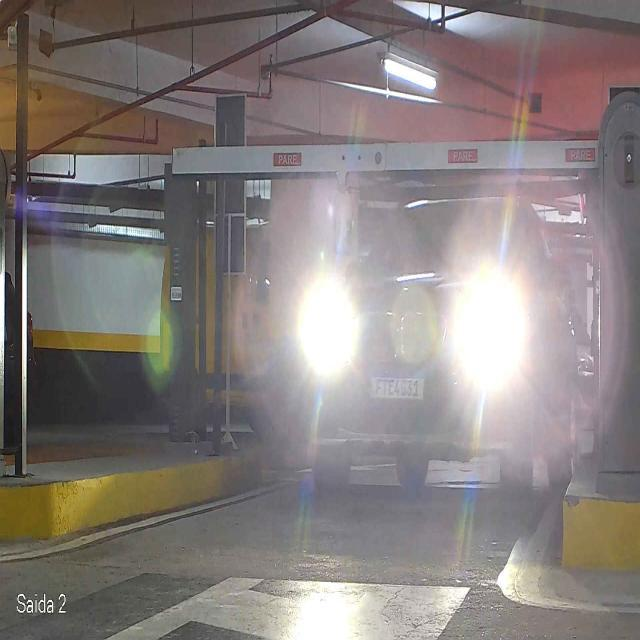mercosul_plate: (367, 369, 426, 402)
